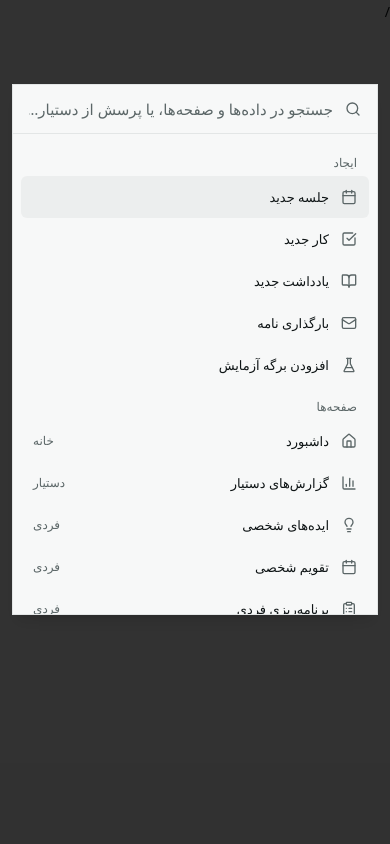
Test: Command palette › matches pages whatever the writing (ي/ك, ZWNJ)
Type "بخشنامهها" into the dropdown with placeholder "جستجو در داده‌ها و صفحه‌ها، یا پرسش از دستیار…" at [181, 109], box x1=29 y1=85 x2=333 y2=133
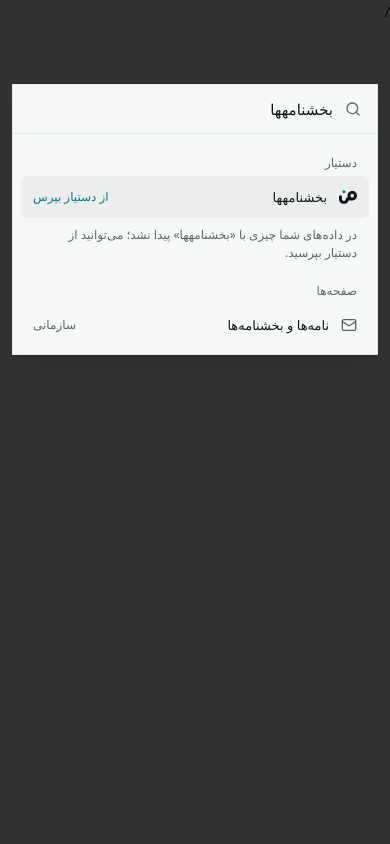
Now the option "نامه‌ها و بخشنامه‌ها سازمانی" is shown, box x1=33 y1=316 x2=357 y2=334
